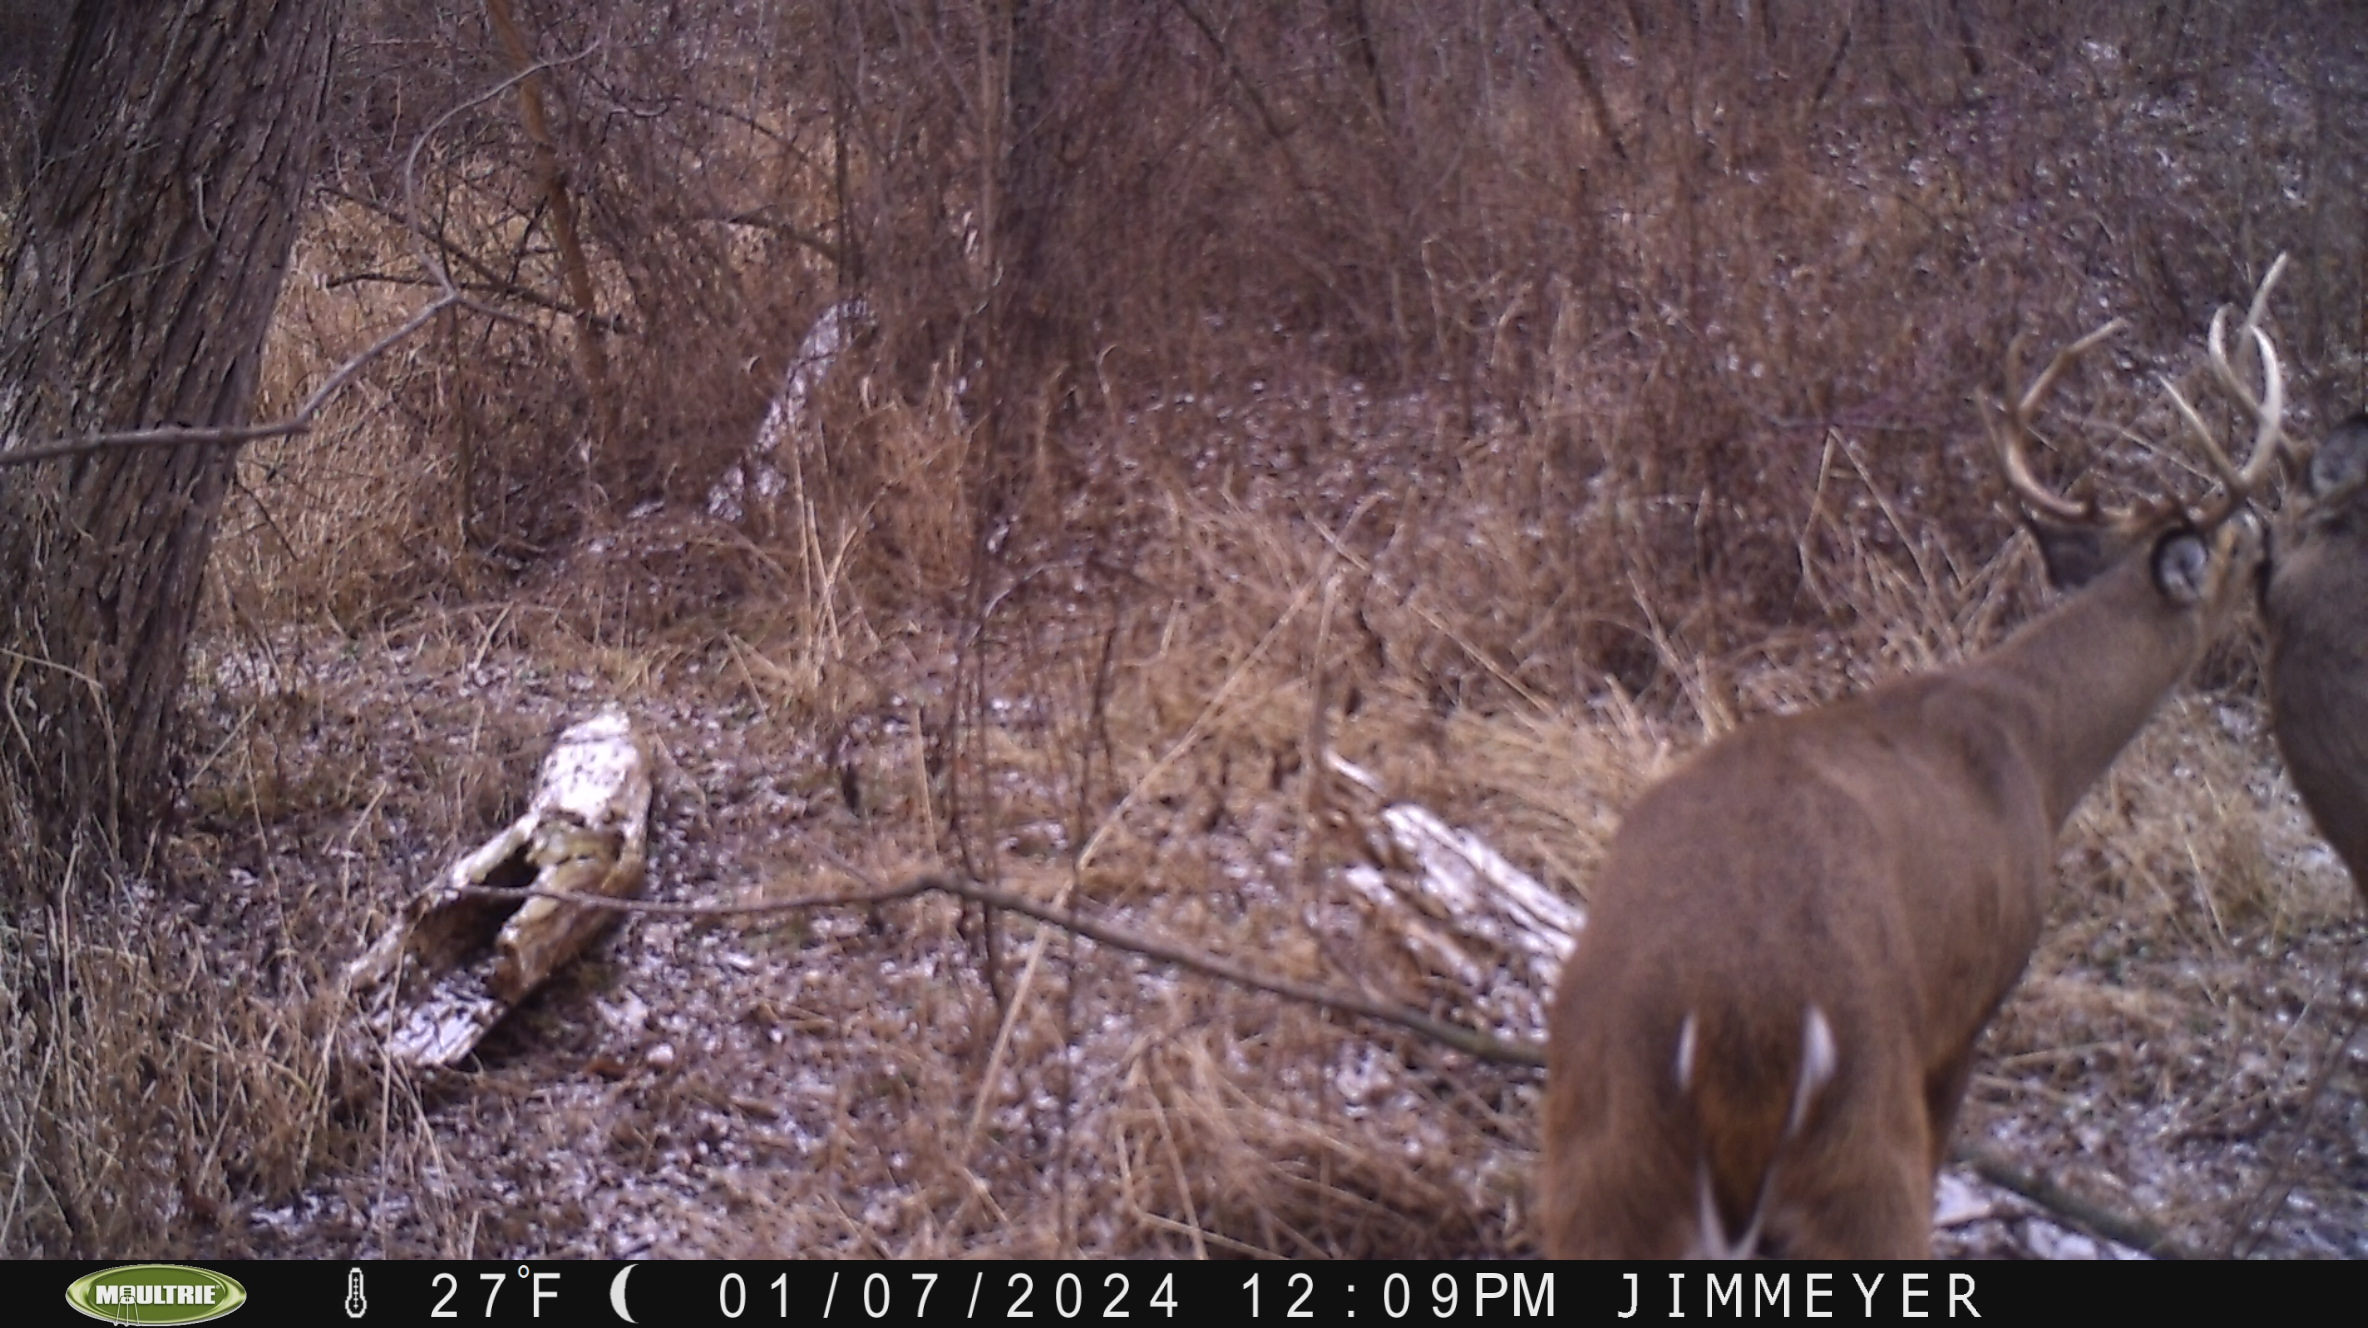DeerBuck: (1534, 301, 2285, 1258), (2203, 250, 2368, 900)
DeerBuckHead: (1981, 300, 2283, 642), (2203, 250, 2368, 635)
